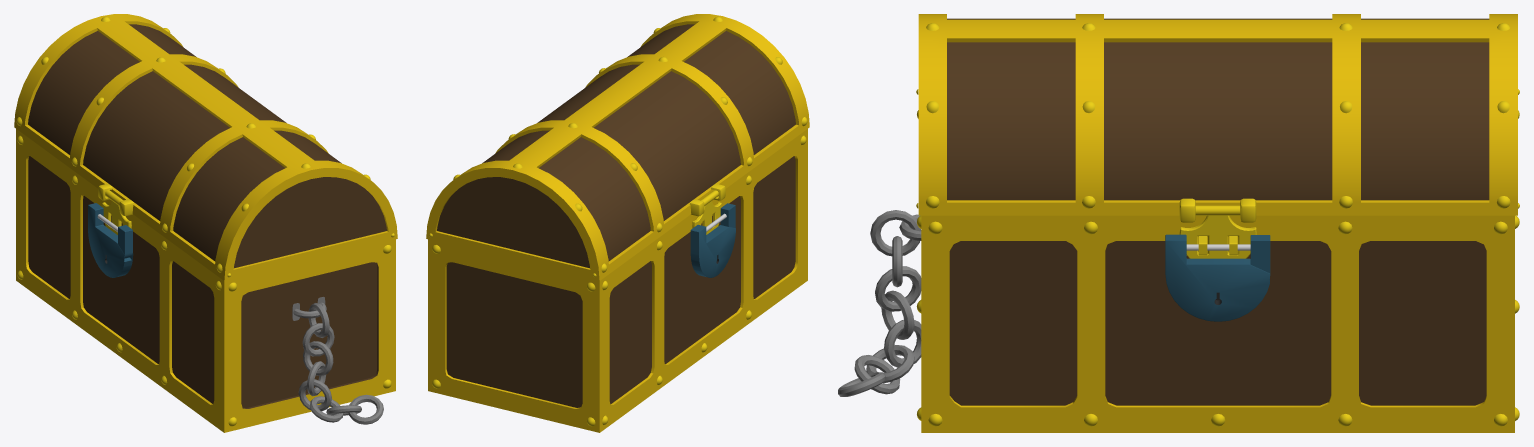
The model's file is treasurebox05_1_m.fbx.
3 views of the same model, side by side, from view 1: azimuth 30°, elevation 25°; view 2: azimuth 150°, elevation 25°; view 3: azimuth 270°, elevation 25° (orthographic). The views are drawn at different scales.
Parts seen in each view (by area): view 1: Flap, UnderBox, Rings, Lock.001, Pin_Flap, Pin_Under, Latch.001, Lock_Move.001, Bearing.001; view 2: Flap, UnderBox, Lock.001, Pin_Flap, Pin_Under, Latch.001, Bearing.001; view 3: UnderBox, Flap, Rings, Lock, Latch, Pin_Under, Pin_Flap, Bearing, Lock_Move.
Boxes of the visible parts, box(x1,y1,x2,y2) form: Flap: box(14, 14, 397, 280); UnderBox: box(16, 129, 395, 432); Rings: box(292, 297, 383, 424); Lock.001: box(88, 203, 133, 277); Pin_Flap: box(16, 16, 394, 277); Pin_Under: box(17, 135, 391, 426); Latch.001: box(102, 190, 131, 234); Lock_Move.001: box(118, 225, 132, 258); Bearing.001: box(98, 183, 133, 216); Flap: box(426, 14, 809, 280); UnderBox: box(428, 129, 807, 432); Lock.001: box(690, 213, 735, 277); Pin_Flap: box(429, 16, 807, 277); Pin_Under: box(432, 135, 806, 426); Latch.001: box(692, 190, 721, 234); Bearing.001: box(689, 183, 725, 216); UnderBox: box(921, 215, 1514, 432); Flap: box(918, 14, 1517, 215); Rings: box(838, 210, 921, 396); Lock: box(1165, 234, 1270, 321); Latch: box(1179, 205, 1256, 258); Pin_Under: box(916, 110, 1519, 426); Pin_Flap: box(916, 23, 1519, 208); Bearing: box(1179, 198, 1256, 222); Lock_Move: box(1250, 235, 1270, 273).
Size of the model in its own units: 232 by 275 by 483.
